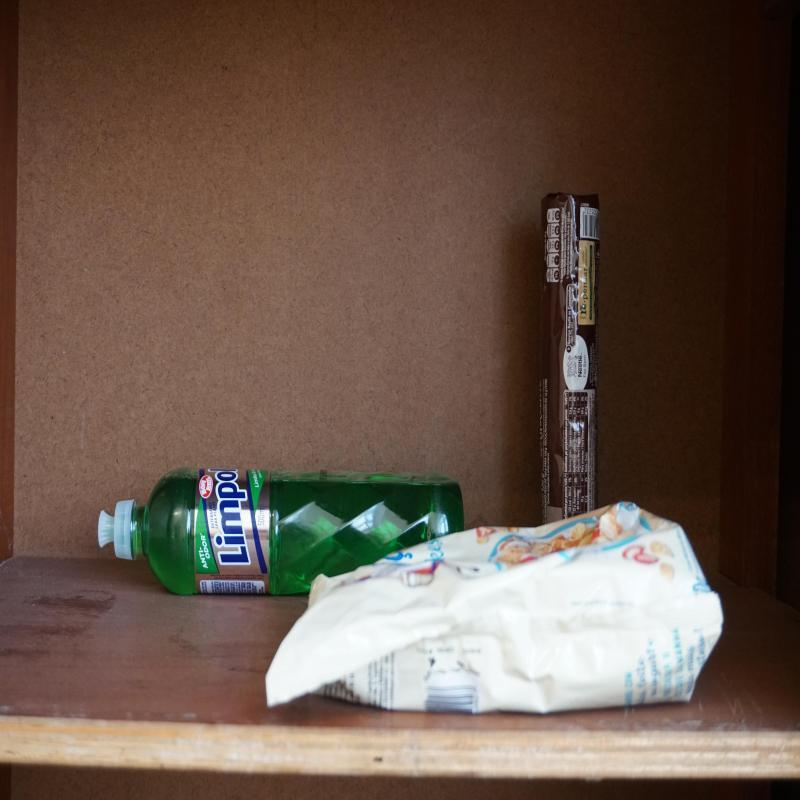Cleaner: (99, 469, 466, 600)
Cookies: (541, 194, 599, 526)
CornFlakes: (263, 503, 726, 718)
